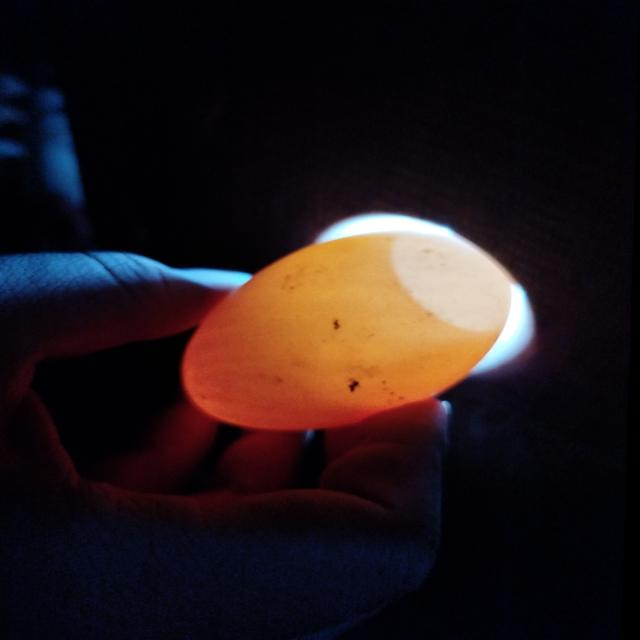Camara de Ar: (394, 233, 514, 331)
Gema Quebrada: (185, 264, 405, 432)
